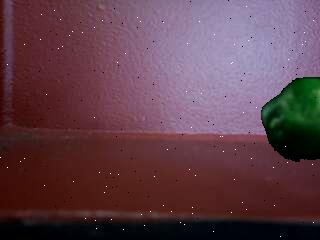Lime: (260, 74, 320, 166)
